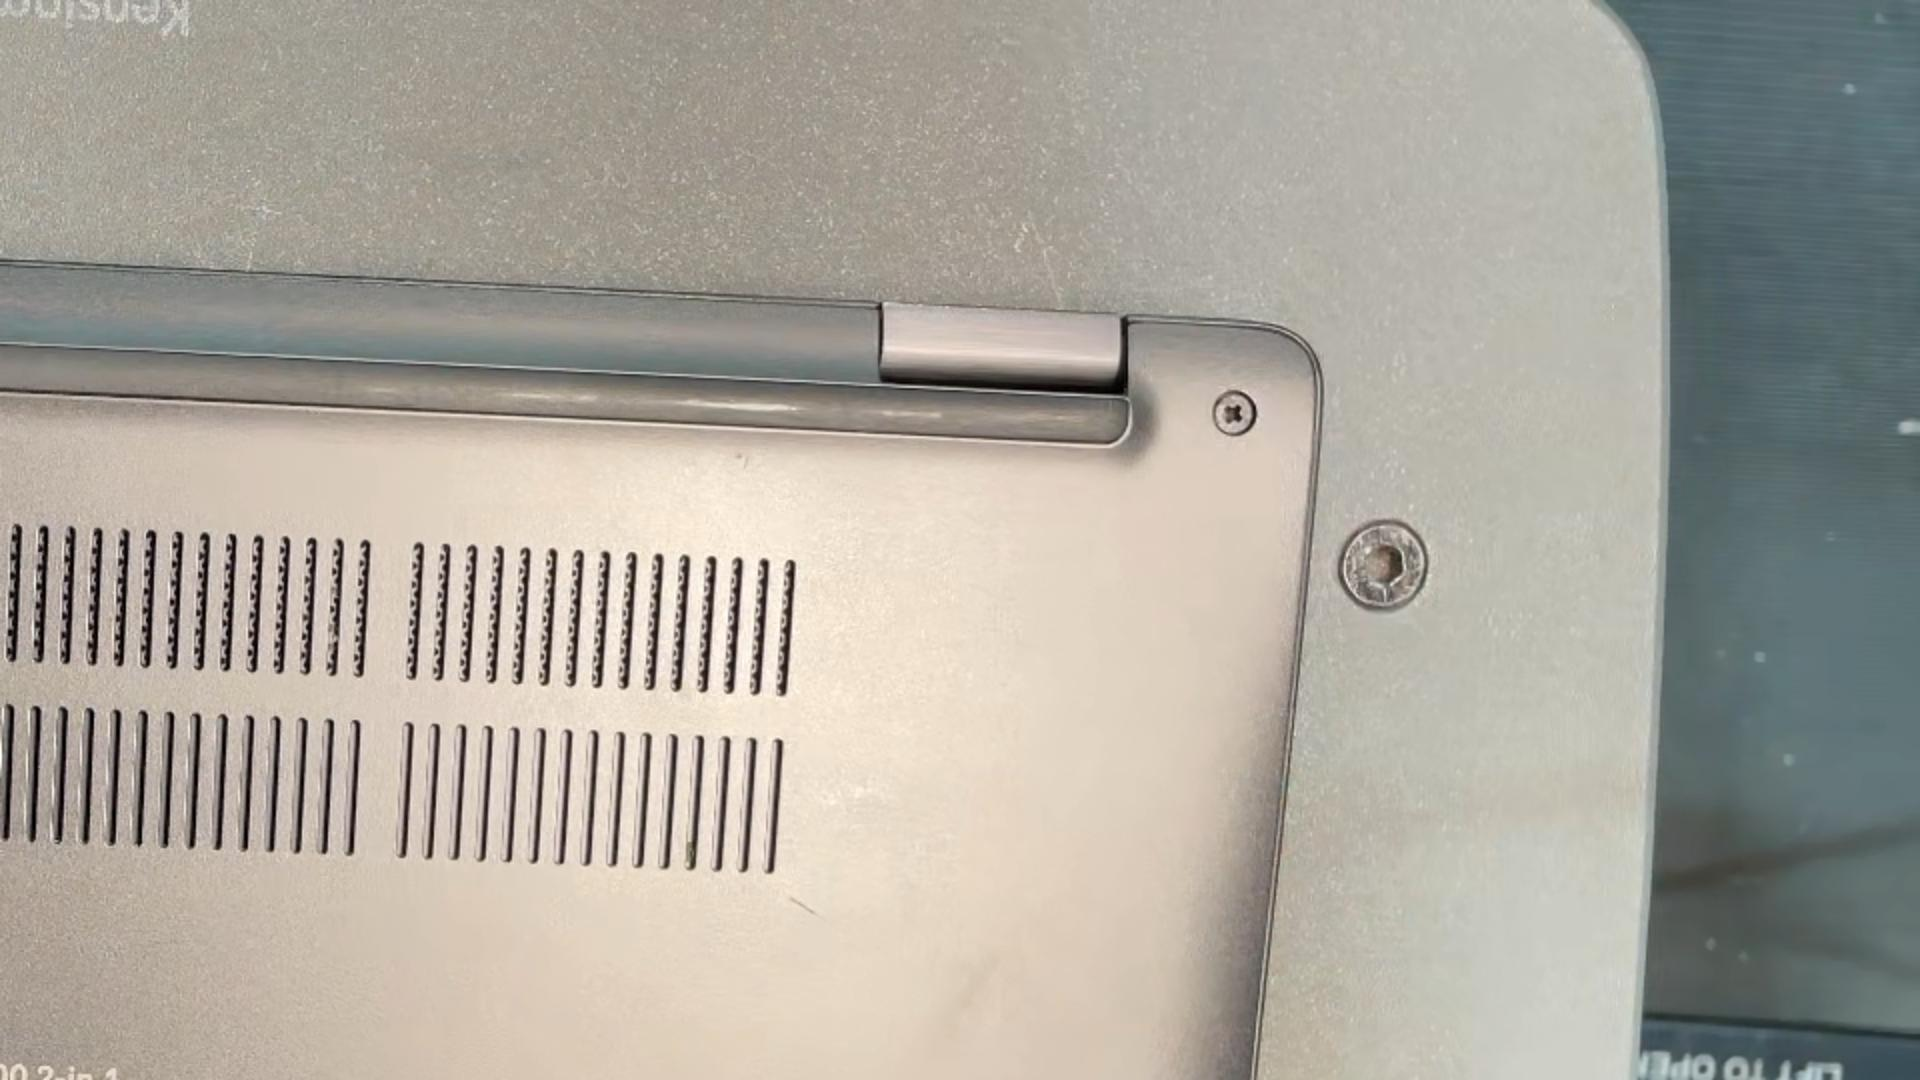scratches: (785, 890, 827, 922)
